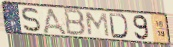9: (132, 14, 150, 41)
A: (41, 7, 70, 37)
B: (64, 7, 87, 37)
D: (108, 12, 129, 39)
M: (84, 11, 111, 38)
S: (21, 6, 42, 33)
